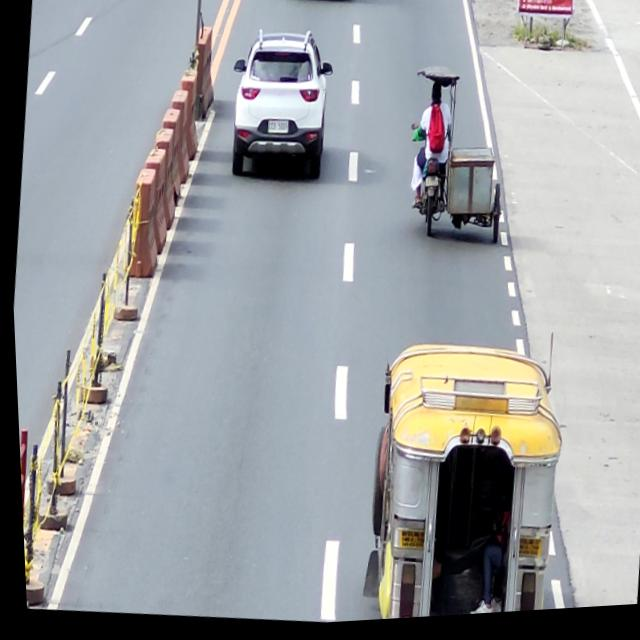Car: (219, 23, 339, 188)
Jeep: (344, 320, 574, 625)
License-Plate: (264, 120, 289, 139), (421, 178, 437, 195)
Tricycle: (396, 65, 514, 254)
